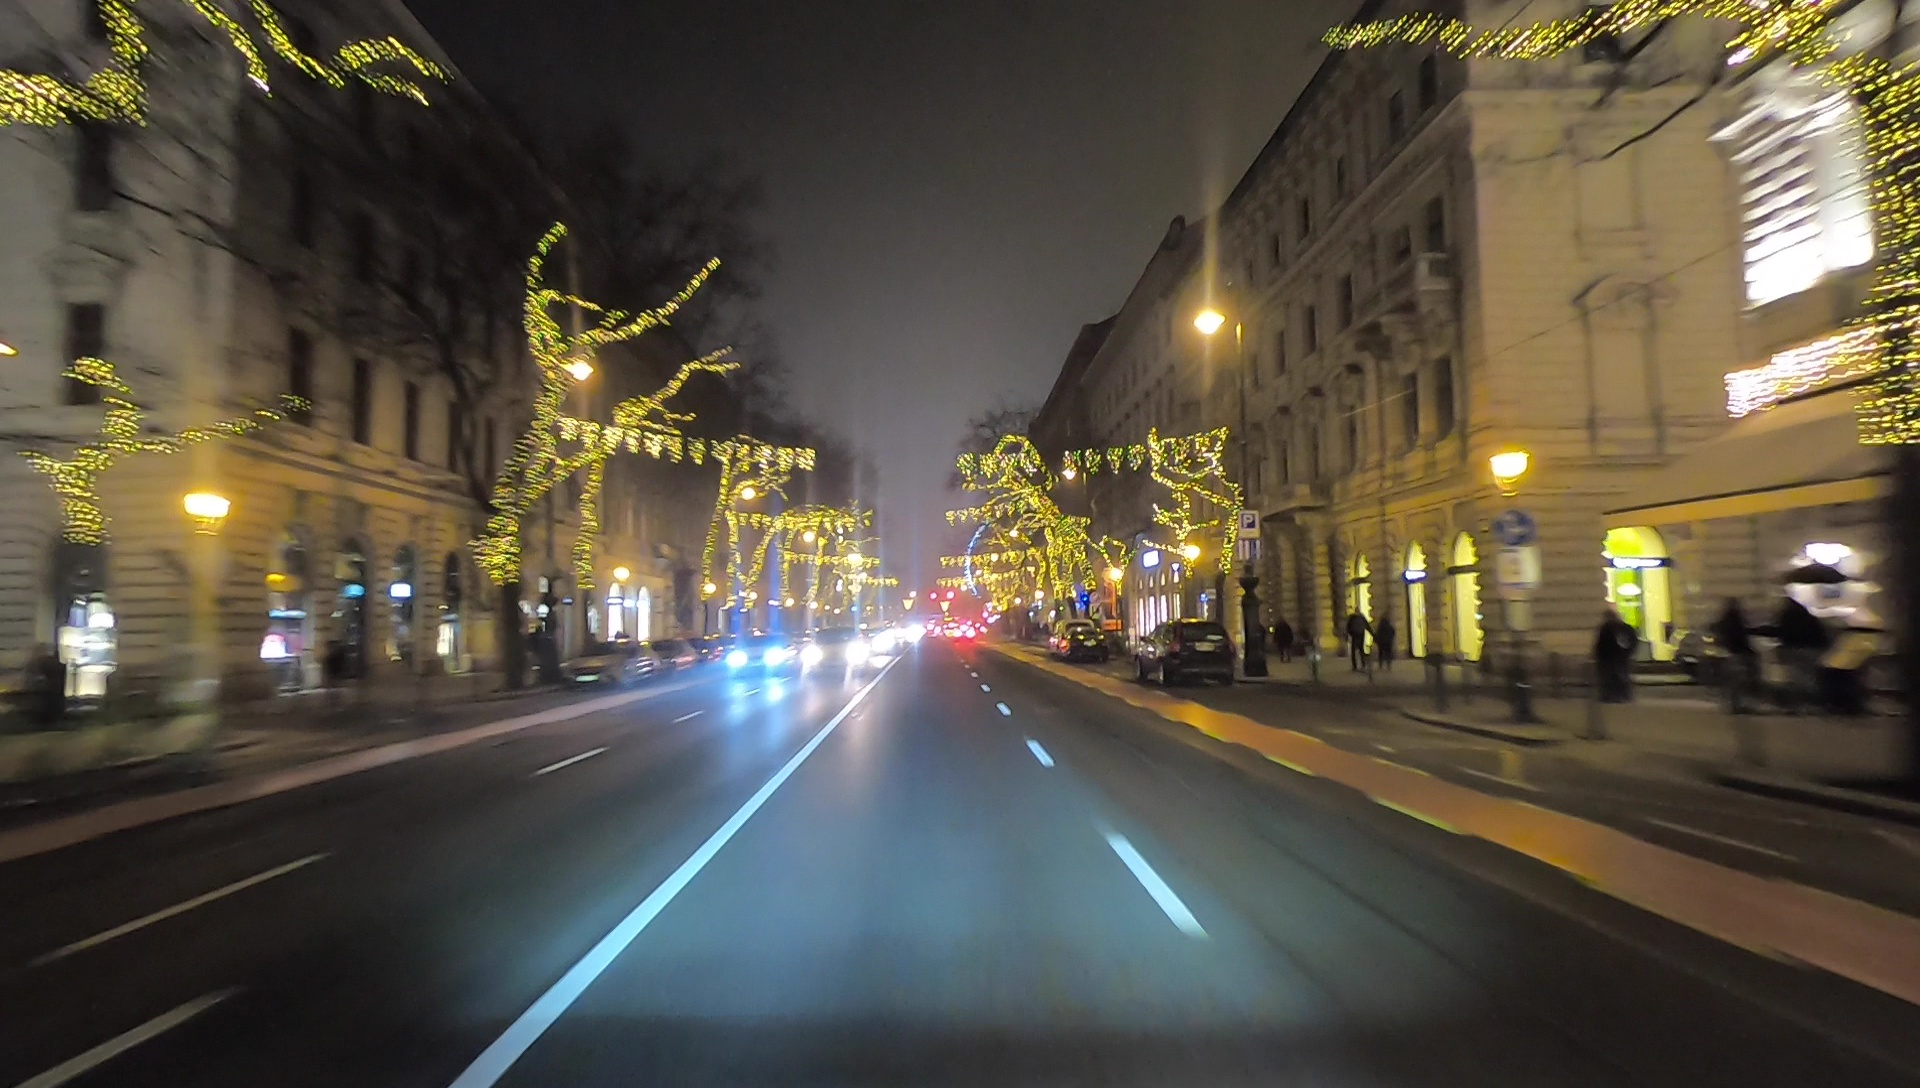person: (1346, 604, 1371, 672), (1373, 614, 1396, 672), (1272, 615, 1296, 667)
